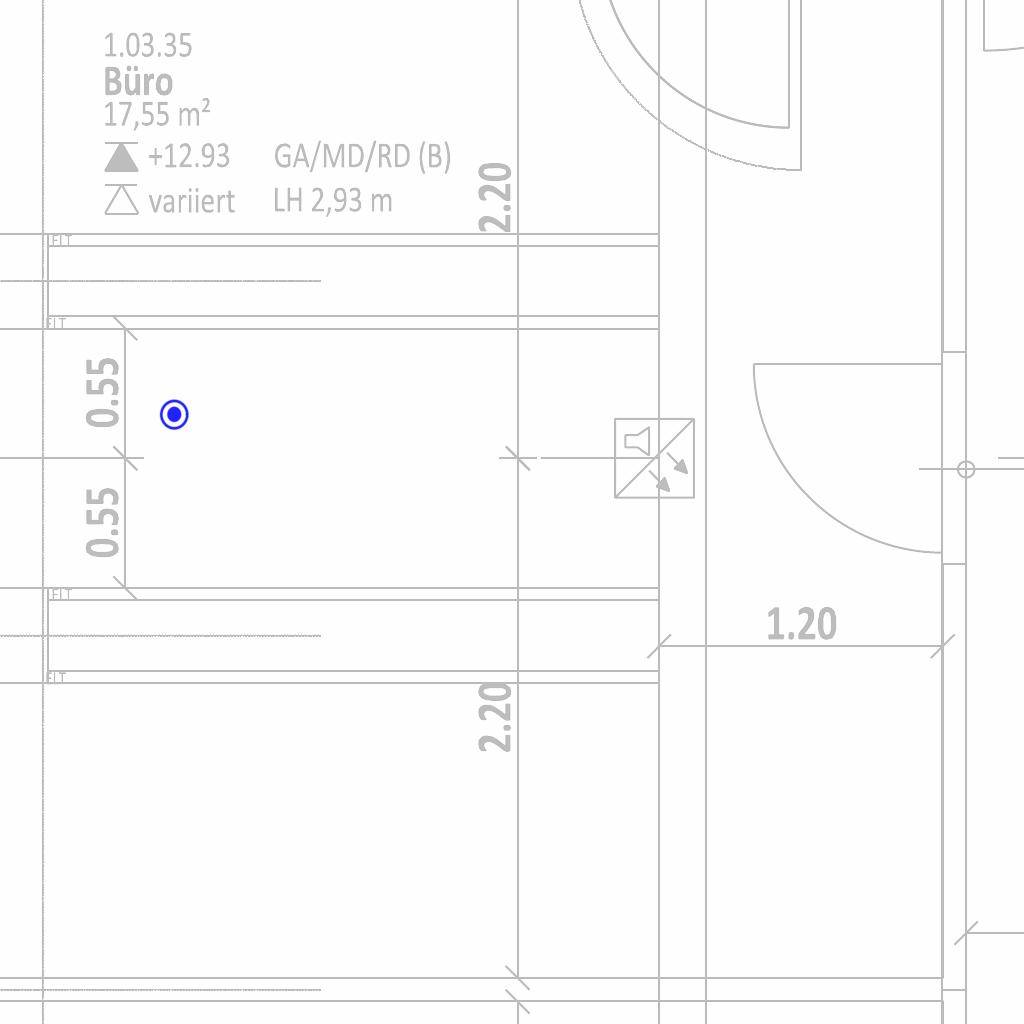Taster: (159, 398, 192, 431)
